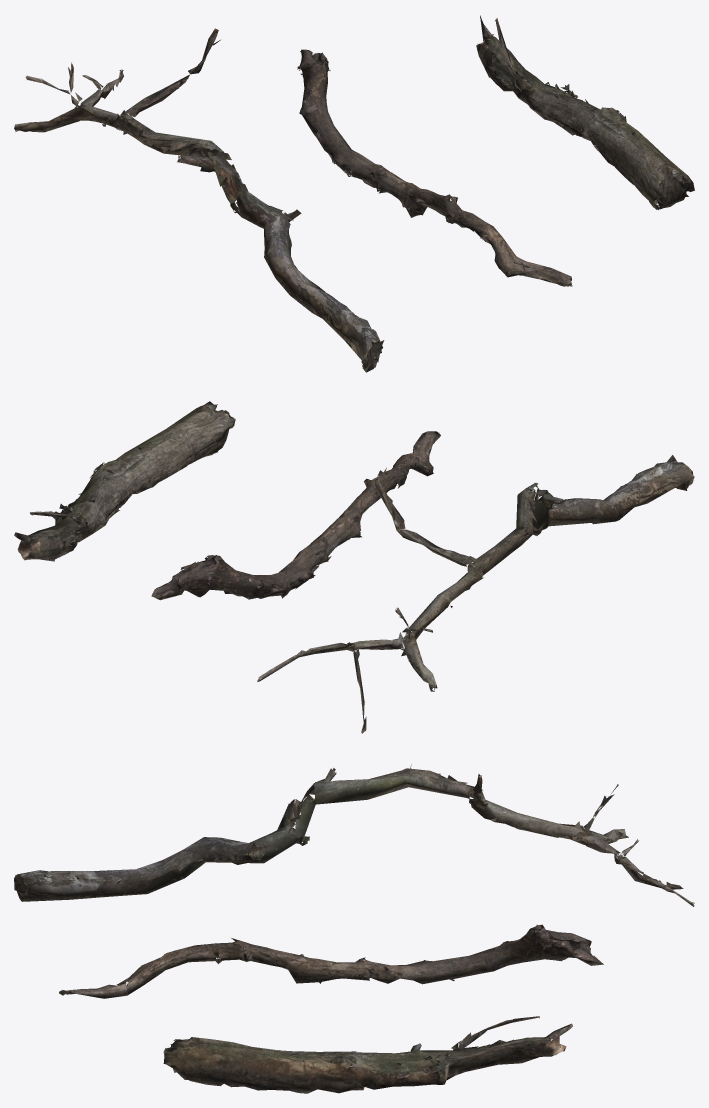
Rendered from dry_branches_medium_01_wood.glb.
3 renders of one model, top to bottom at view 1: azimuth 30°, elevation 25°; view 2: azimuth 150°, elevation 25°; view 3: azimuth 270°, elevation 25°, orthographic.
Visible parts, largest first — view 1: dry_branches_medium_01_a, dry_branches_medium_01_c, dry_branches_medium_01_b; view 2: dry_branches_medium_01_a, dry_branches_medium_01_c, dry_branches_medium_01_b; view 3: dry_branches_medium_01_a, dry_branches_medium_01_c, dry_branches_medium_01_b.
Part boxes in pixels (x1,y1,x2,y2): dry_branches_medium_01_a: [14, 28, 384, 372]; dry_branches_medium_01_c: [476, 15, 694, 210]; dry_branches_medium_01_b: [297, 49, 572, 286]; dry_branches_medium_01_a: [257, 455, 694, 733]; dry_branches_medium_01_c: [14, 401, 235, 561]; dry_branches_medium_01_b: [151, 431, 440, 600]; dry_branches_medium_01_a: [14, 765, 694, 906]; dry_branches_medium_01_c: [163, 1016, 572, 1093]; dry_branches_medium_01_b: [59, 924, 603, 998].
Bounding box in the file's own units: 1.06 × 0.3399 × 1.3.
1 material, 1 textured.
